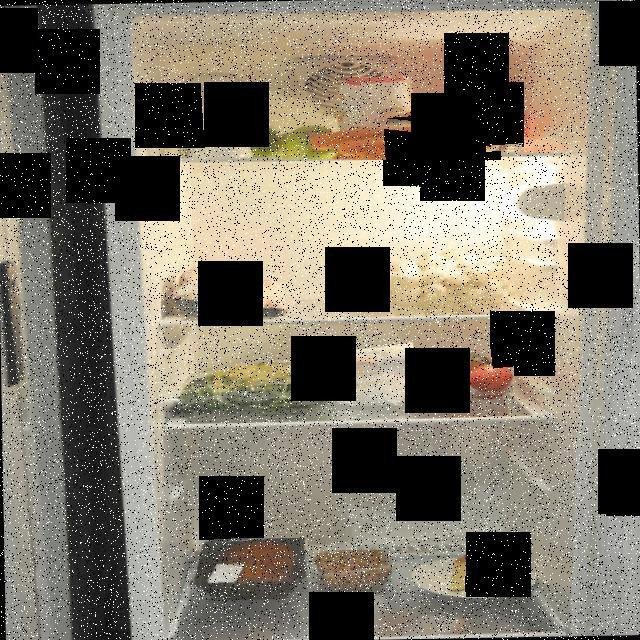apple: (236, 117, 340, 160)
beef: (188, 538, 308, 600)
carrot: (306, 110, 501, 160)
cheese: (448, 542, 518, 592)
chicken: (162, 257, 296, 317)
corn: (470, 118, 522, 153)
flour: (323, 338, 432, 416)
mushrooms: (385, 249, 514, 309)
shrimp: (310, 550, 392, 589)
spinach: (164, 361, 337, 418)
sugar: (176, 70, 254, 160), (336, 77, 414, 156)
tomato: (418, 349, 514, 402)
